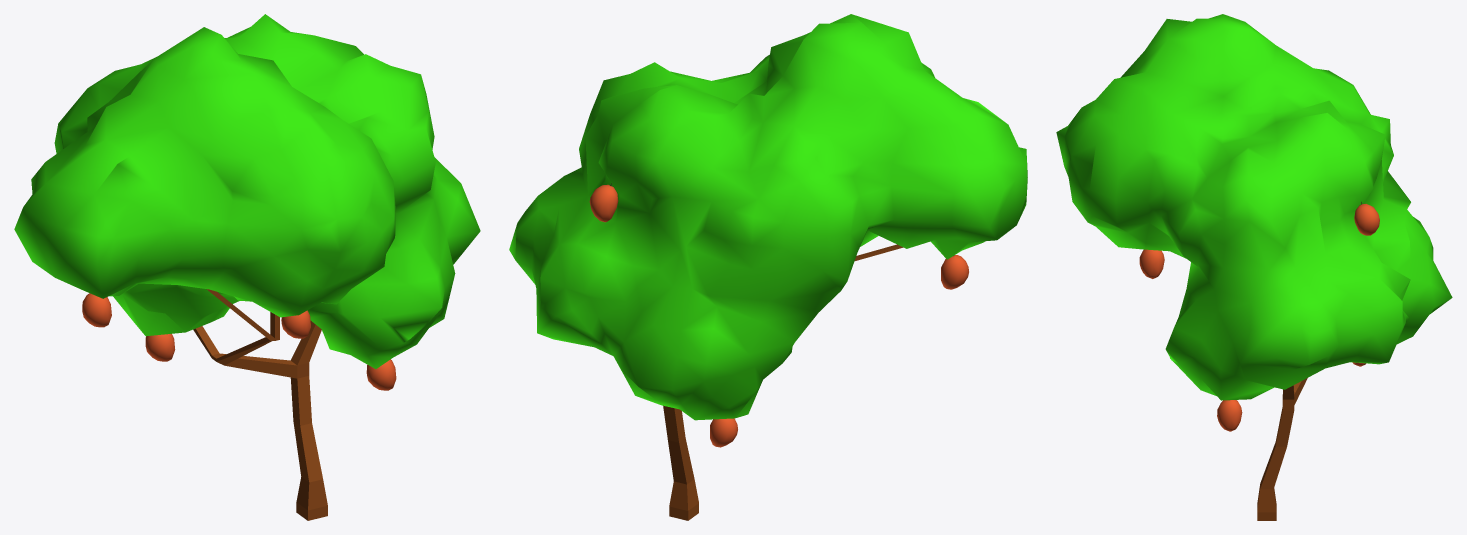
The model's file is SM_MangoTree_001_LOD2.fbx.
3 renders of one model, left to right at view 1: azimuth 30°, elevation 25°; view 2: azimuth 150°, elevation 25°; view 3: azimuth 270°, elevation 25°, orthographic. The views are drawn at different scales.
Parts seen in each view (by area): view 1: MangoTree_01; view 2: MangoTree_01; view 3: MangoTree_01.
Part boxes in pixels (left/top/right/bottom): MangoTree_01: left=14, top=14, right=480, bottom=520; MangoTree_01: left=509, top=14, right=1027, bottom=520; MangoTree_01: left=1056, top=14, right=1452, bottom=520.
Bounding box in the file's own units: 261 × 278 × 226.
